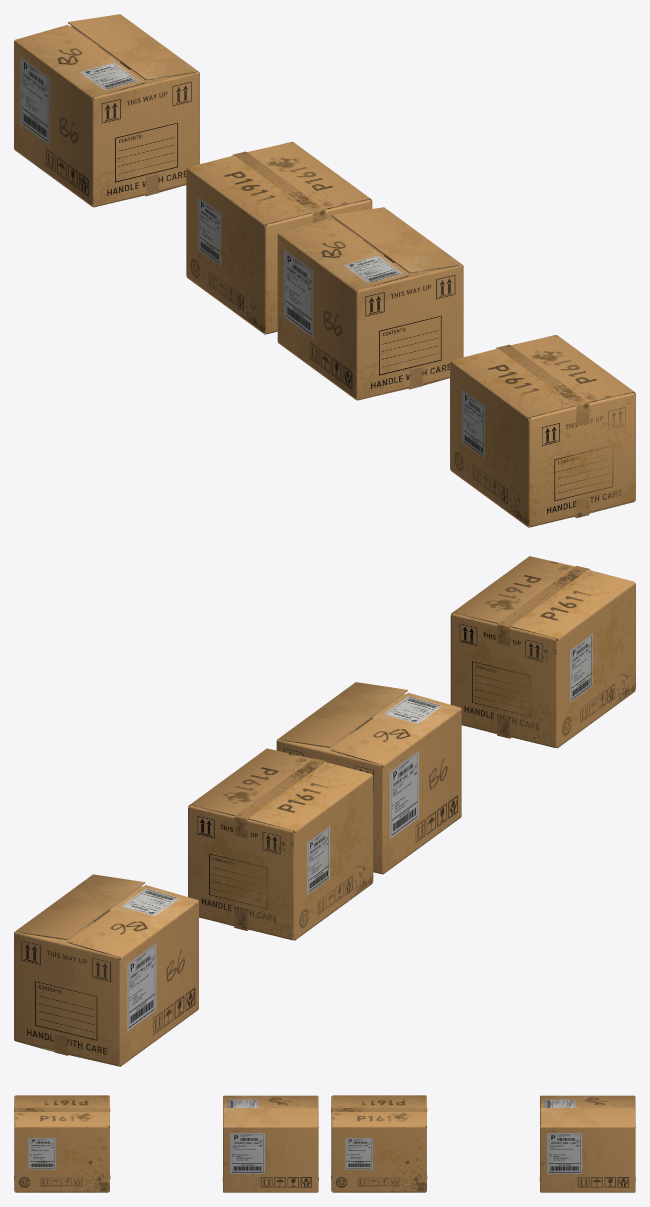
The model's file is 4boxbesartengahkosong.obj.
3 views of the same model, one above another, from view 1: azimuth 30°, elevation 25°; view 2: azimuth 150°, elevation 25°; view 3: azimuth 270°, elevation 25° (orthographic). The views are drawn at different scales.
Parts seen in each view (by area): view 1: Object_9.001, Object_9, Object_10.002, Object_10.001, Object_2.002, Object_2.001; view 2: Object_9, Object_10.001, Object_10.002, Object_9.001, Object_2.001, Object_2.002; view 3: Object_9.001, Object_9, Object_10.001, Object_10.002, Object_2.001, Object_2.002.
Part boxes in pixels (left/top/right/bottom): Object_9.001: left=277, top=207, right=463, bottom=400; Object_9: left=14, top=14, right=199, bottom=207; Object_10.002: left=450, top=335, right=635, bottom=527; Object_10.001: left=186, top=142, right=372, bottom=334; Object_2.002: left=496, top=344, right=589, bottom=425; Object_2.001: left=232, top=151, right=325, bottom=222; Object_9: left=14, top=874, right=198, bottom=1066; Object_10.001: left=188, top=748, right=373, bottom=940; Object_10.002: left=450, top=556, right=635, bottom=748; Object_9.001: left=276, top=682, right=461, bottom=874; Object_2.001: left=234, top=758, right=326, bottom=838; Object_2.002: left=497, top=566, right=589, bottom=646; Object_9.001: left=222, top=1095, right=318, bottom=1192; Object_9: left=539, top=1095, right=635, bottom=1192; Object_10.001: left=331, top=1095, right=427, bottom=1192; Object_10.002: left=14, top=1095, right=110, bottom=1192; Object_2.001: left=331, top=1108, right=427, bottom=1111; Object_2.002: left=14, top=1108, right=110, bottom=1111.
Size of the model in its own units: 0.4207 by 0.4327 by 3.47.
Materials: 6 (6 with a texture image).
